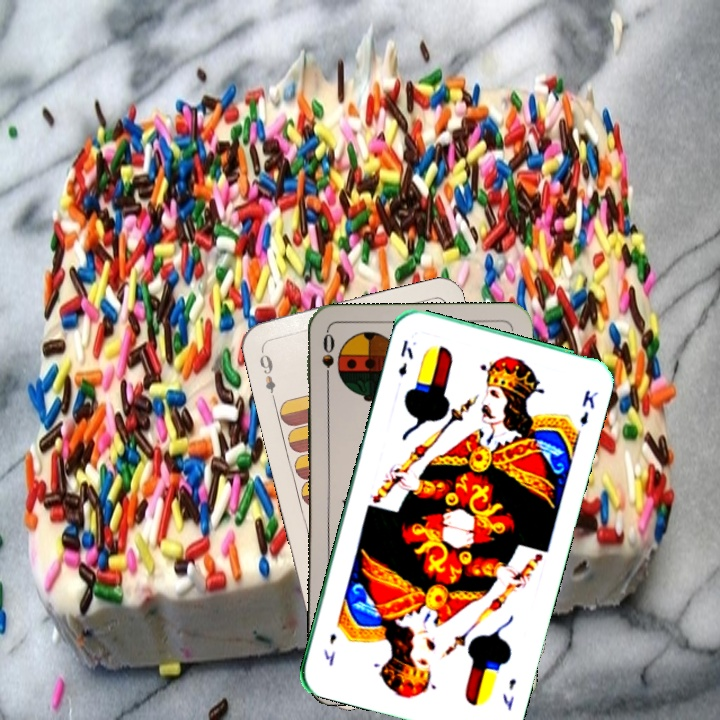E9: (255, 345, 278, 403)
EK: (394, 335, 416, 379), (498, 674, 519, 713)
SO: (318, 329, 337, 388)
